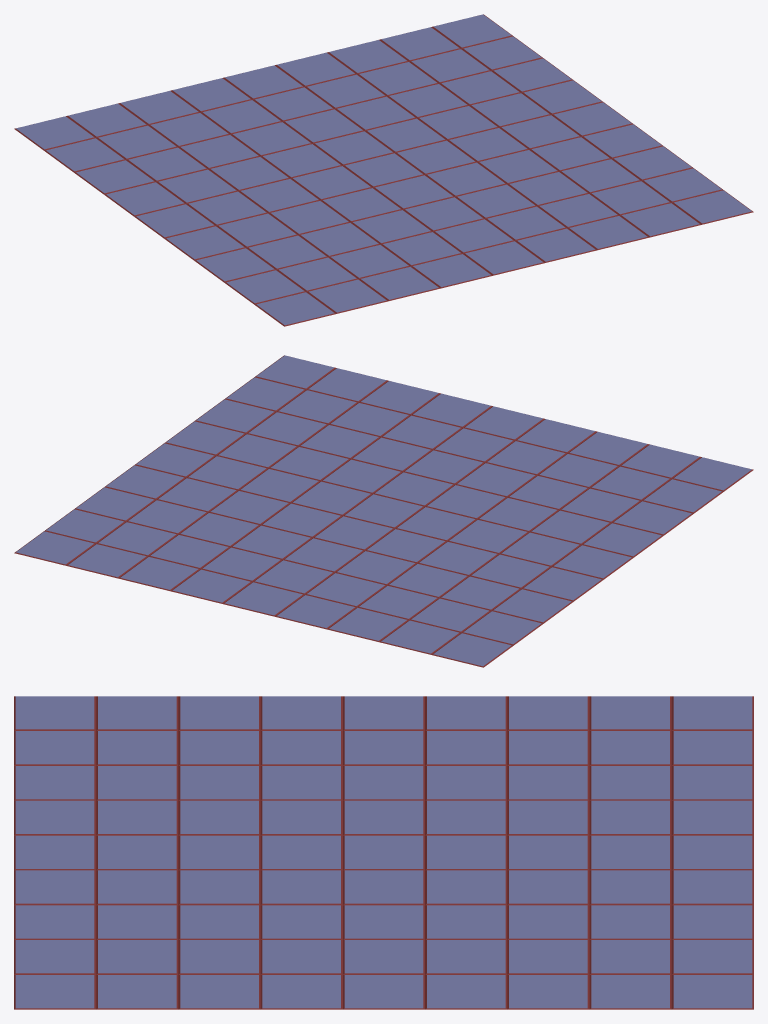
File: Gym_floortile.fbx
3 renders of one model, top to bottom at view 1: azimuth 30°, elevation 25°; view 2: azimuth 150°, elevation 25°; view 3: azimuth 270°, elevation 25°, orthographic. The views are drawn at different scales.
Visible parts, largest first — view 1: Gym_floortile; view 2: Gym_floortile; view 3: Gym_floortile.
Boxes of the visible parts, x1,y1,x2,y2 form: Gym_floortile: [14, 14, 753, 326]; Gym_floortile: [14, 355, 753, 667]; Gym_floortile: [14, 696, 753, 1009].
Size of the model in its own units: 490 by 0.6001 by 489.
